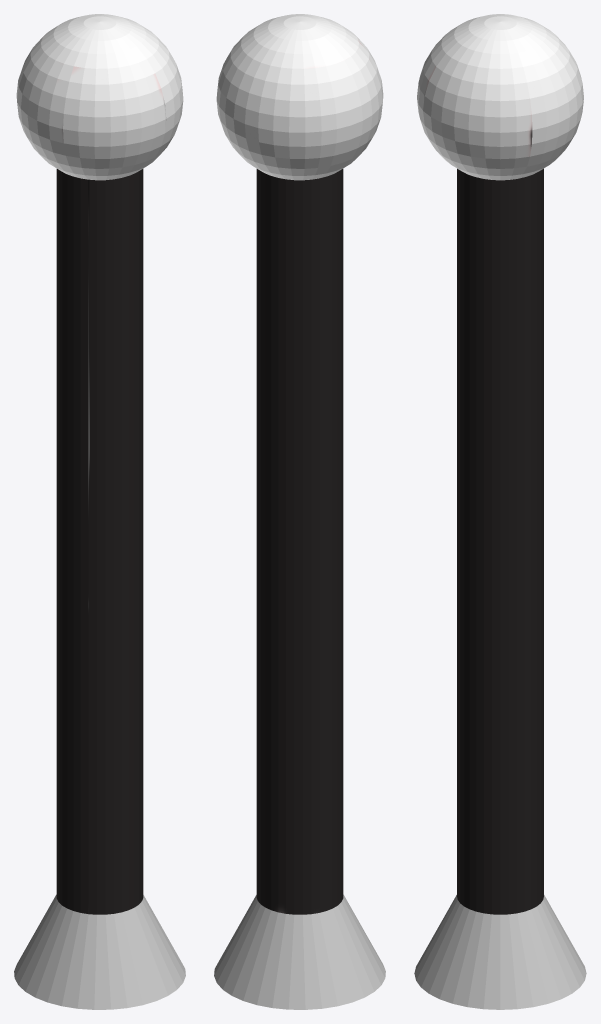
The model's file is lampadaire.obj.
3 renders of one model, left to right at view 1: azimuth 30°, elevation 25°; view 2: azimuth 150°, elevation 25°; view 3: azimuth 270°, elevation 25°, orthographic.
Visible parts, largest first — view 1: Cylindre, Sphère, Cône; view 2: Cylindre, Sphère, Cône; view 3: Cylindre, Sphère, Cône.
Part boxes in pixels (x1,y1,x2,y2): Cylindre: (56,169,143,914); Sphère: (16,14,183,180); Cône: (14,894,185,1009); Cylindre: (256,169,343,914); Sphère: (216,14,383,180); Cône: (214,894,385,1009); Cylindre: (457,168,543,914); Sphère: (417,14,583,180); Cône: (414,895,586,1009).
Size of the model in its own units: 3.86 by 23.57 by 3.86.
2 materials, 2 textured.
